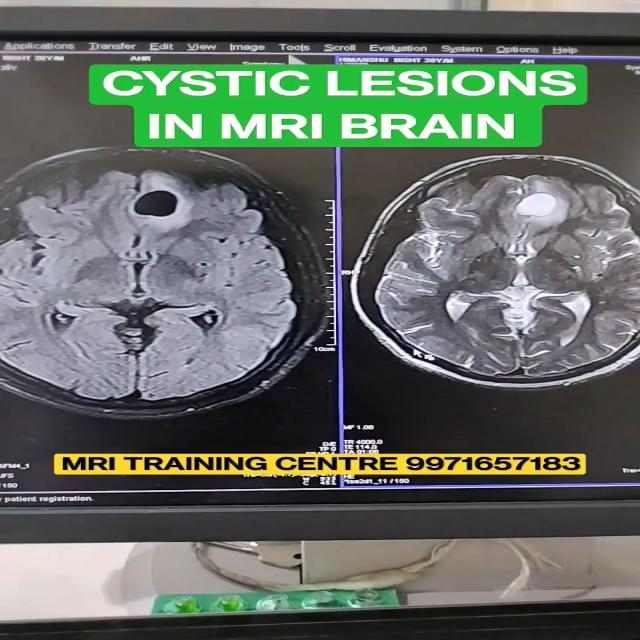tumor: (126, 170, 214, 240)
